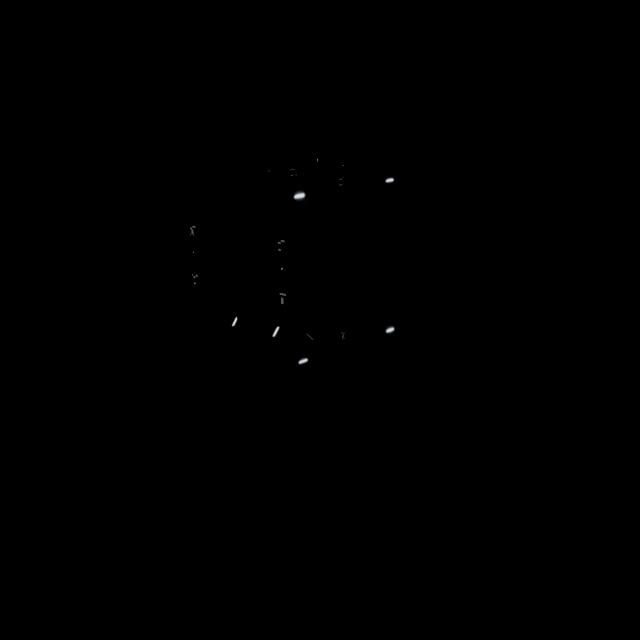satellite: (184, 145, 417, 372)
